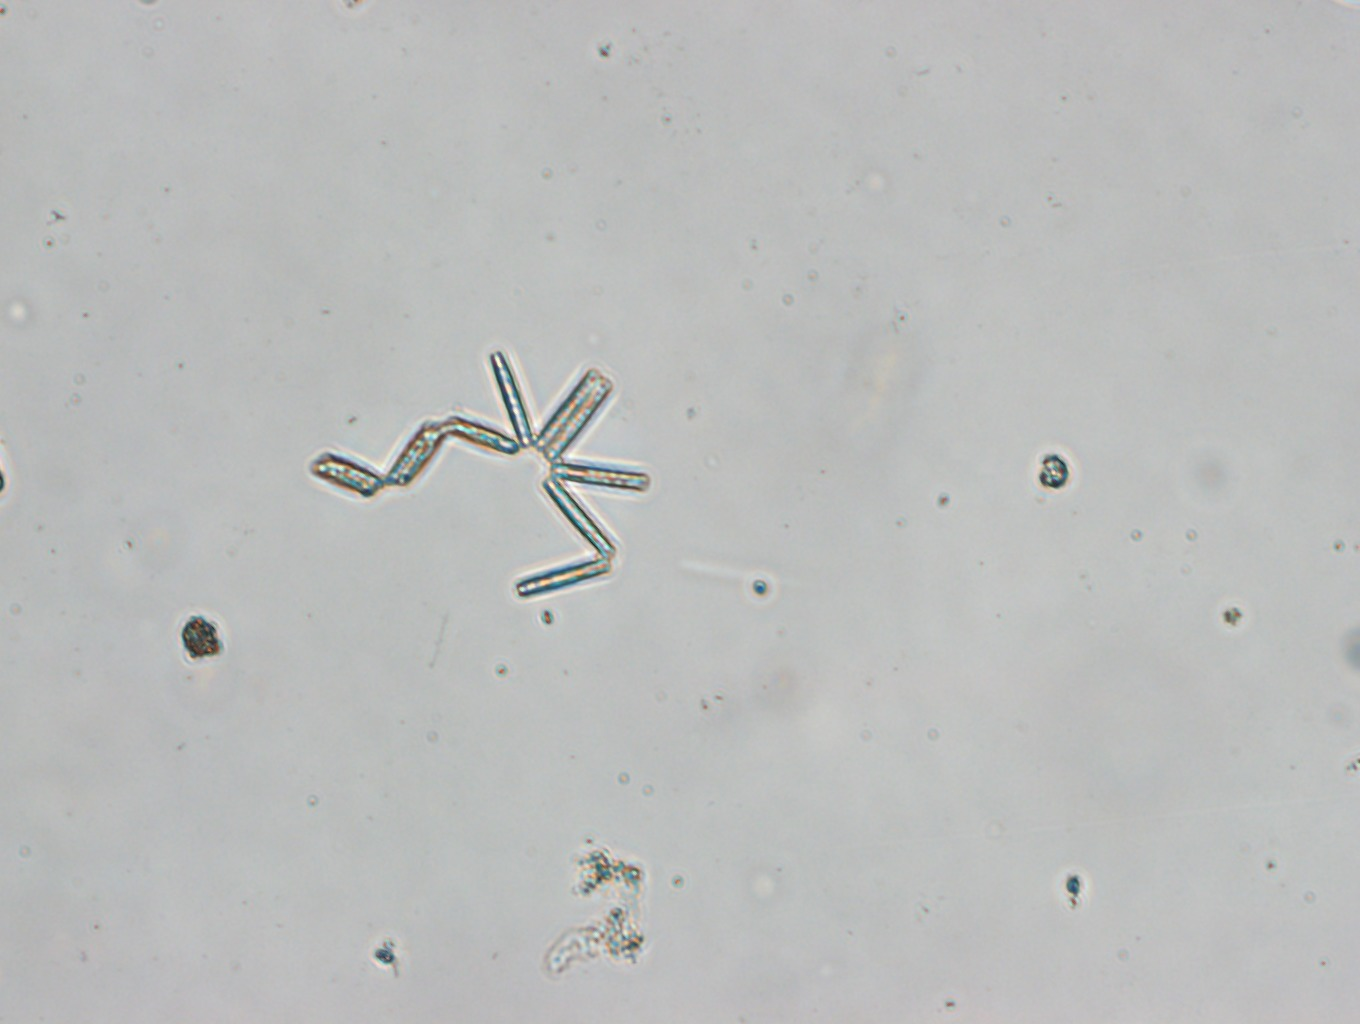thalassionema nitzschioides: (306, 351, 652, 602)
